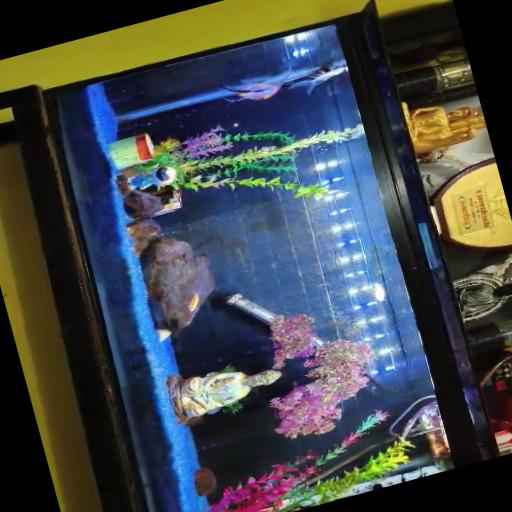Fish: (220, 72, 289, 102), (288, 66, 347, 94)
